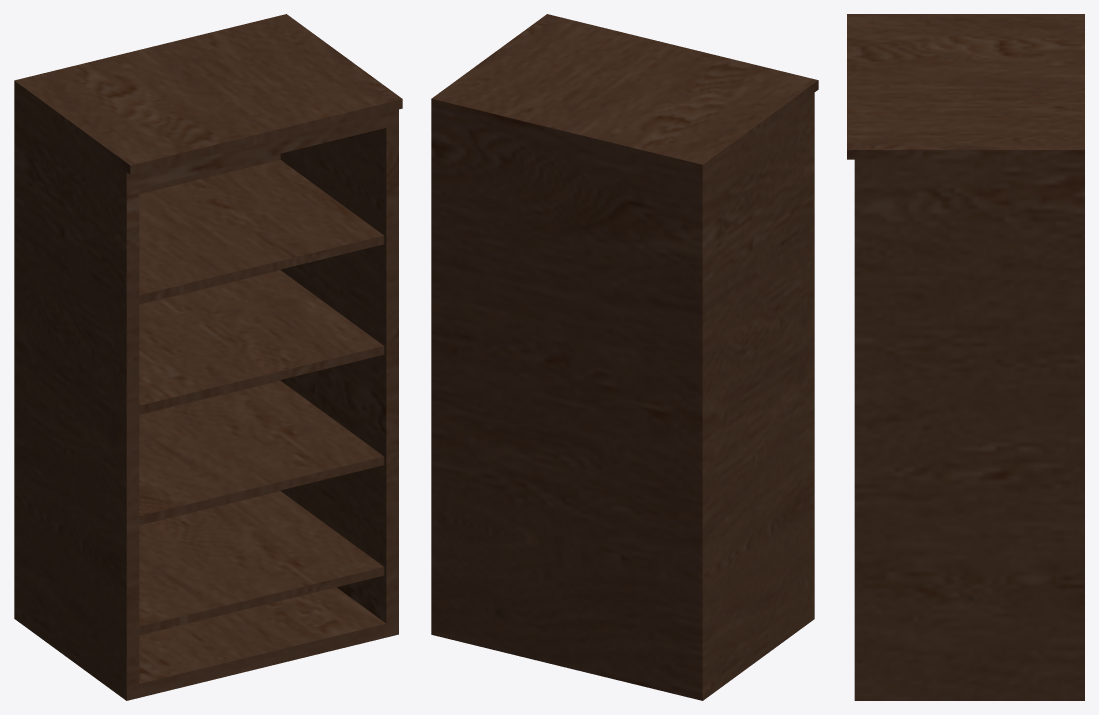
File: Closet39.fbx
3 views of the same model, side by side, from view 1: azimuth 30°, elevation 25°; view 2: azimuth 150°, elevation 25°; view 3: azimuth 270°, elevation 25° (orthographic). The views are drawn at different scales.
Visible parts, largest first — view 1: Closet39; view 2: Closet39; view 3: Closet39.
Part boxes in pixels (bbox=[...]): Closet39: bbox=[14, 14, 402, 700]; Closet39: bbox=[431, 14, 818, 700]; Closet39: bbox=[847, 14, 1084, 700].
Size of the model in its own units: 62.2 by 117 by 45.95.
